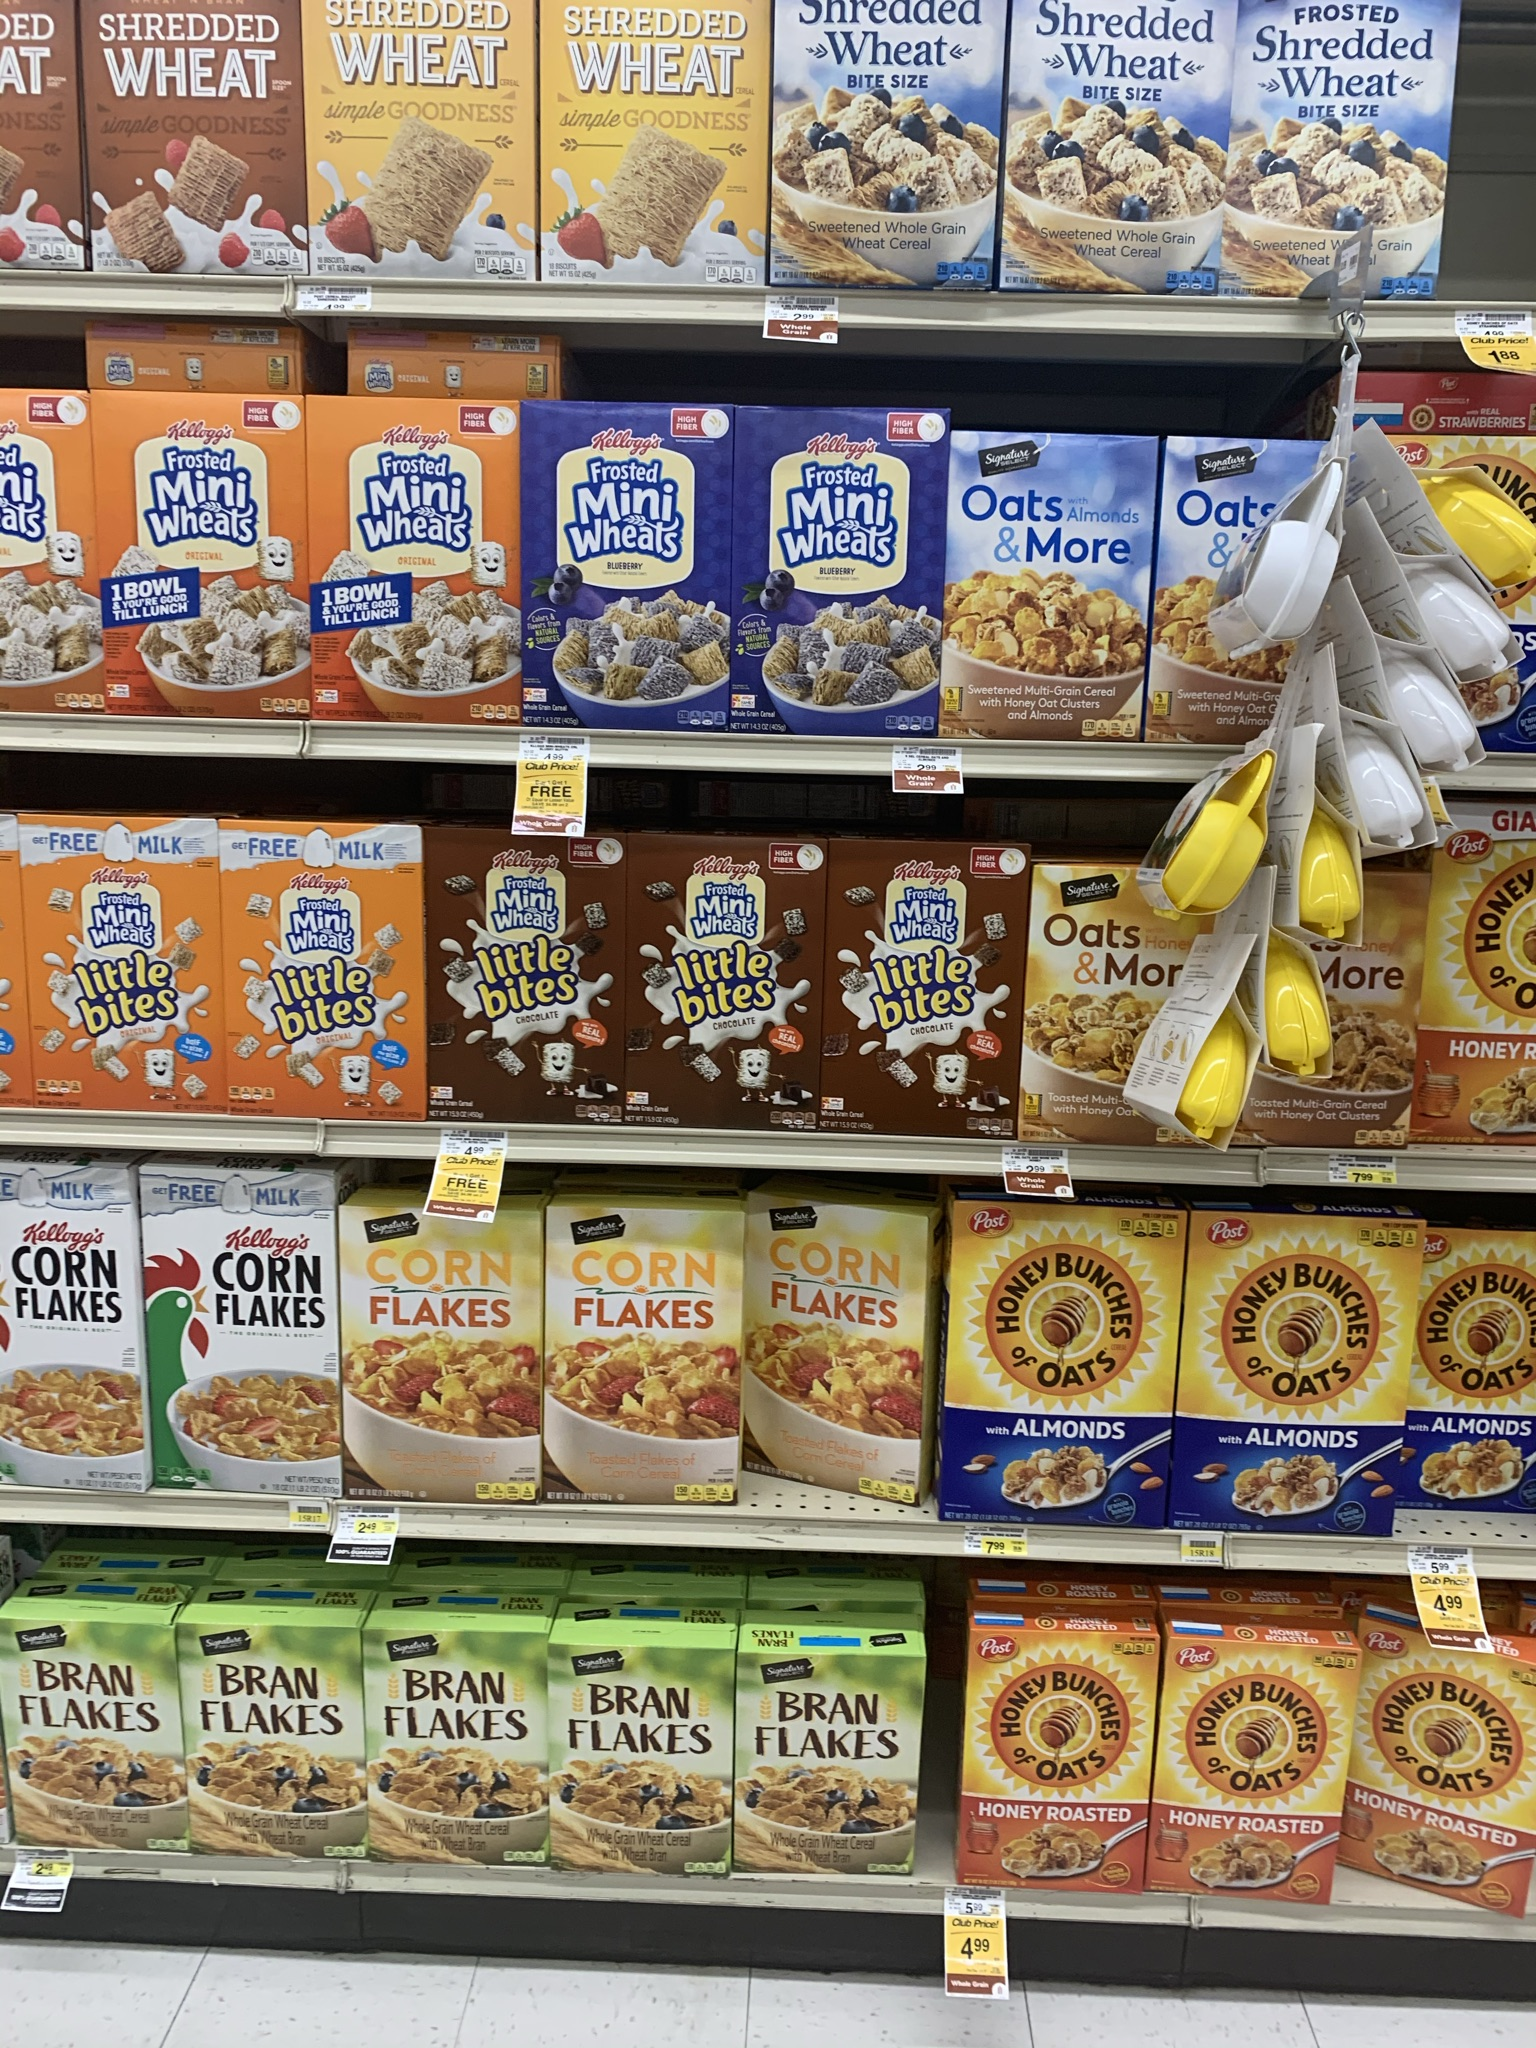cereal: (1183, 1206, 1417, 1540), (520, 408, 745, 727), (739, 406, 945, 753), (303, 397, 515, 727), (954, 1193, 1157, 1532), (95, 400, 305, 726), (303, 2, 539, 285), (218, 813, 424, 1127), (537, 10, 766, 282), (1229, 6, 1444, 297), (19, 821, 231, 1113), (339, 1213, 545, 1508), (150, 1176, 337, 1500), (616, 832, 810, 1142), (824, 851, 1021, 1155), (1004, 2, 1217, 276), (779, 8, 983, 289), (952, 427, 1134, 739), (1154, 413, 1320, 753), (424, 832, 618, 1122), (745, 1198, 928, 1506), (553, 1206, 736, 1509), (89, 2, 298, 264), (1152, 1643, 1365, 1901), (1362, 1613, 1536, 1906), (966, 1627, 1137, 1900), (176, 1630, 371, 1864), (365, 1637, 552, 1875), (550, 1651, 731, 1884), (2, 1622, 177, 1854), (742, 1653, 916, 1885), (2, 1176, 131, 1485)
